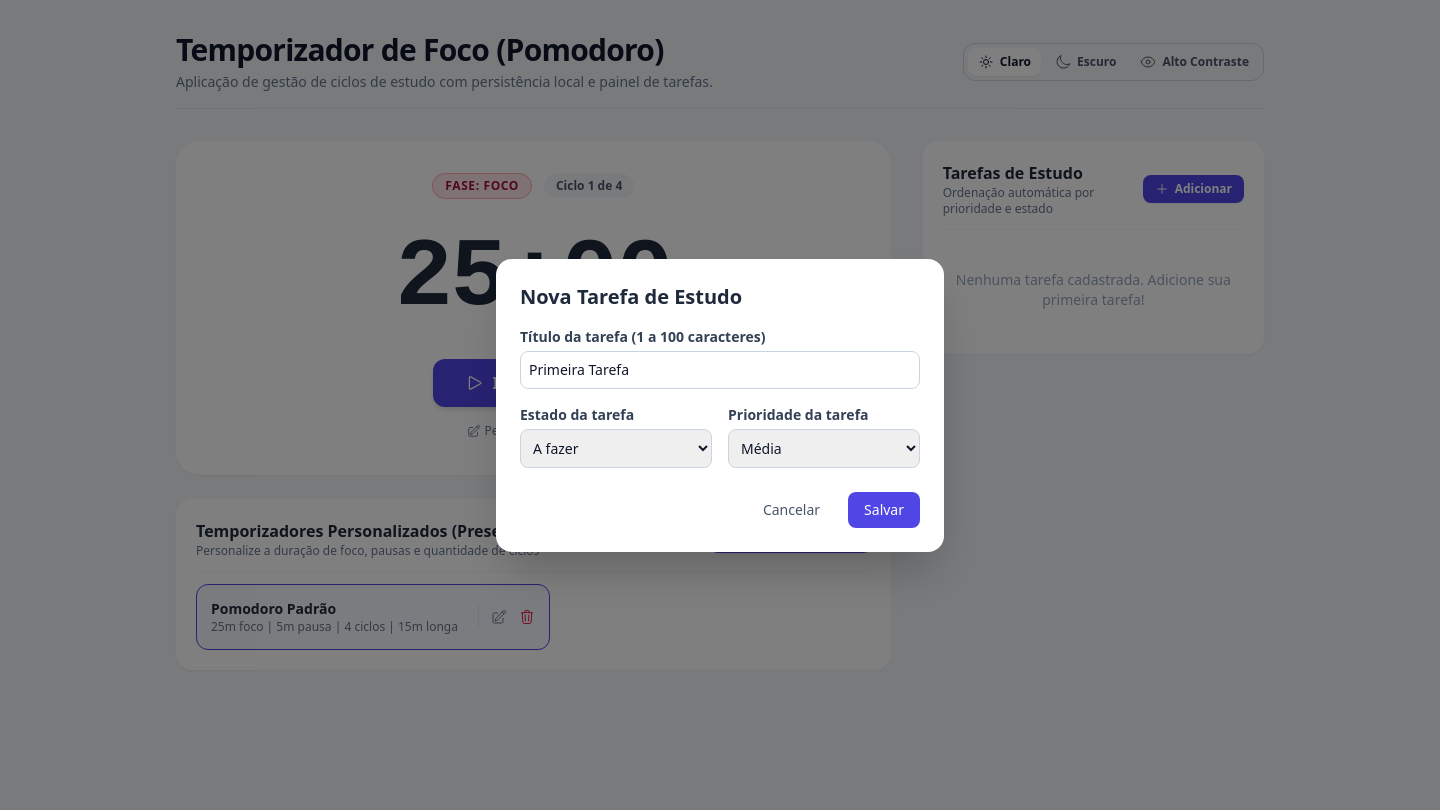
App Integrado (Pomodoro + Presets + Tarefas) › ao editar uma tarefa apos criar outra, deve abrir com os dados da tarefa selecionada e nao da ultima criada
Earlier steps of the test are not shown.
Click the button "Salvar" at (884, 510), box x1=848 y1=492 x2=920 y2=528
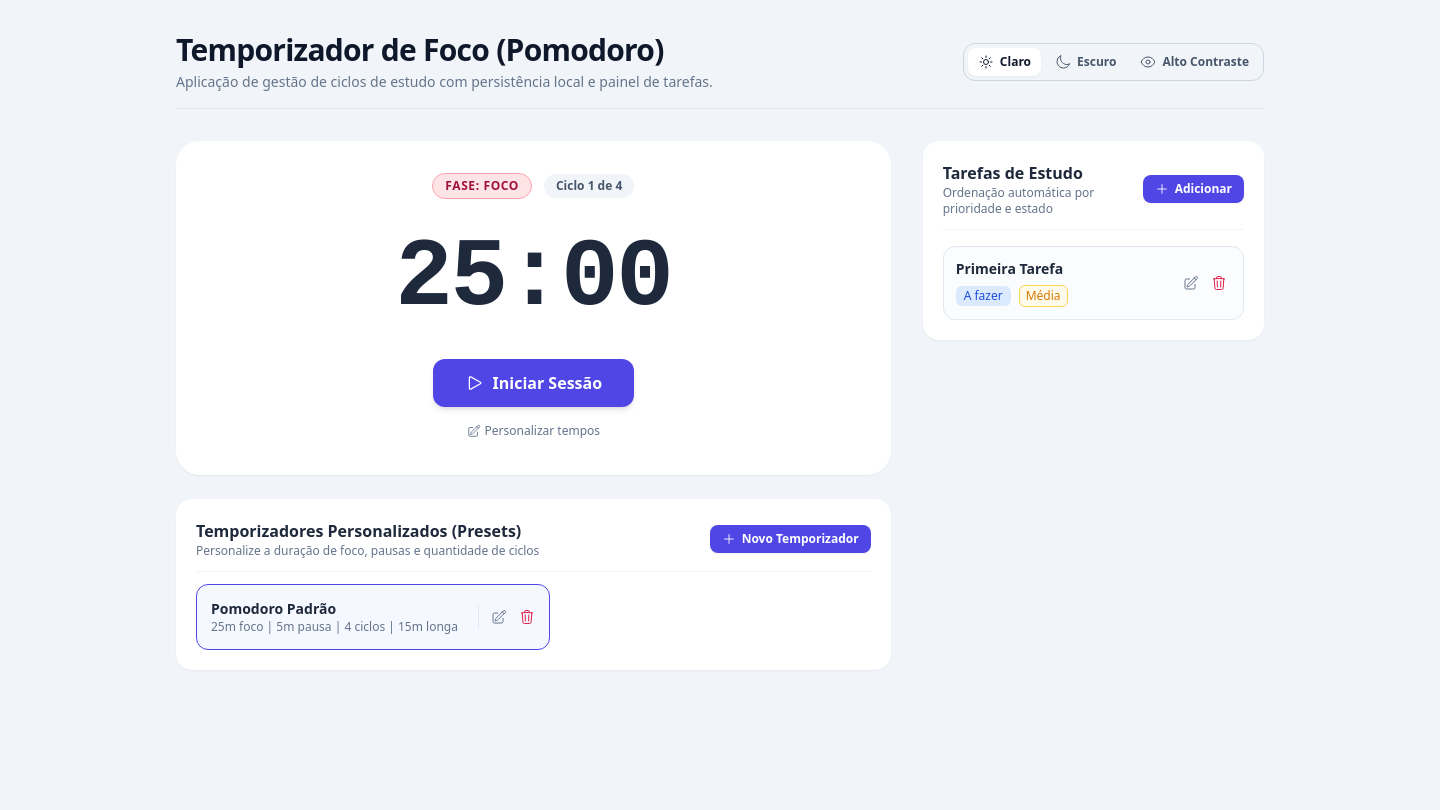
# Criar Tarefa 2
Click the button with aria-label "+ Adicionar" at (1193, 189), box x1=1143 y1=175 x2=1244 y2=203
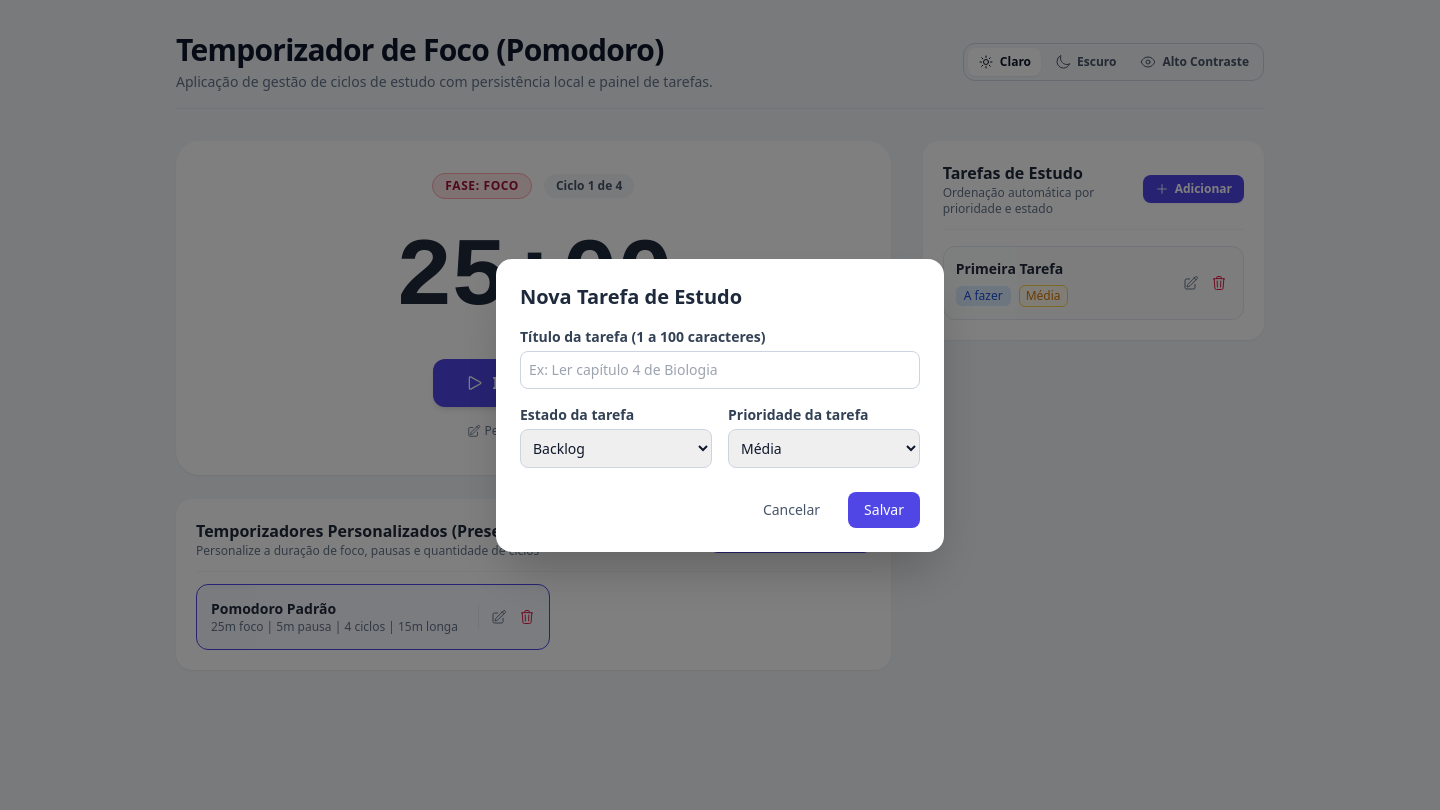
Type "Segunda Tarefa" into the field labelled "Título da tarefa (1 a 100 caracteres)" at (720, 370), box x1=520 y1=350 x2=920 y2=388
Select "Concluída" in the dropdown labelled "Estado da tarefa" at (616, 448), box x1=520 y1=428 x2=712 y2=468
Click the button "Salvar" at (884, 510), box x1=848 y1=492 x2=920 y2=528
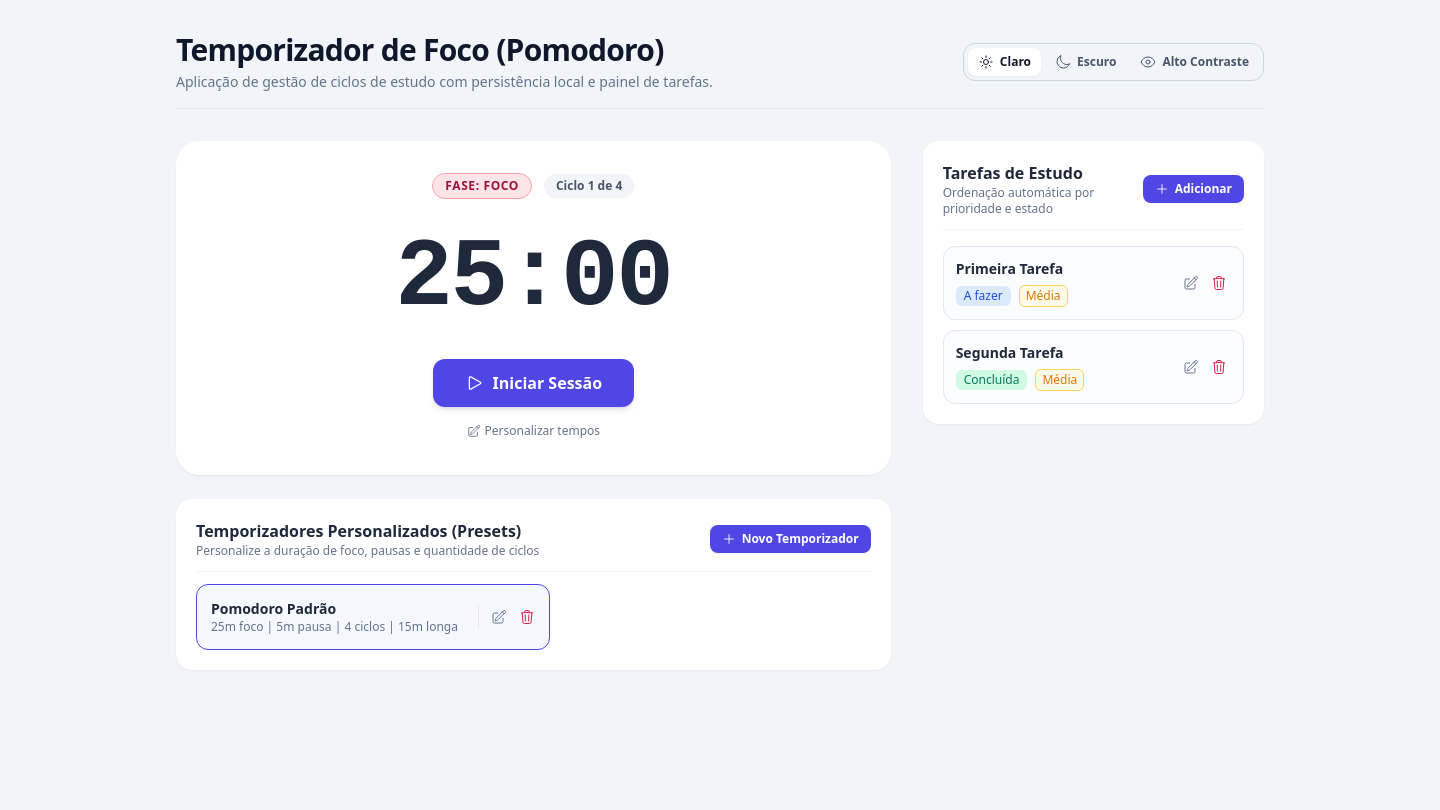
Expected: the text "Primeira Tarefa" is shown, x1=956 y1=259 x2=1068 y2=279
Now the text "Segunda Tarefa" is shown, box x1=956 y1=343 x2=1064 y2=362
# Primeira tarefa (aFazer vem antes de concluida pela RN-10 se tiver mesma prioridade)
Click the button titled "Editar Tarefa" at (1191, 283), box x1=1179 y1=271 x2=1203 y2=295
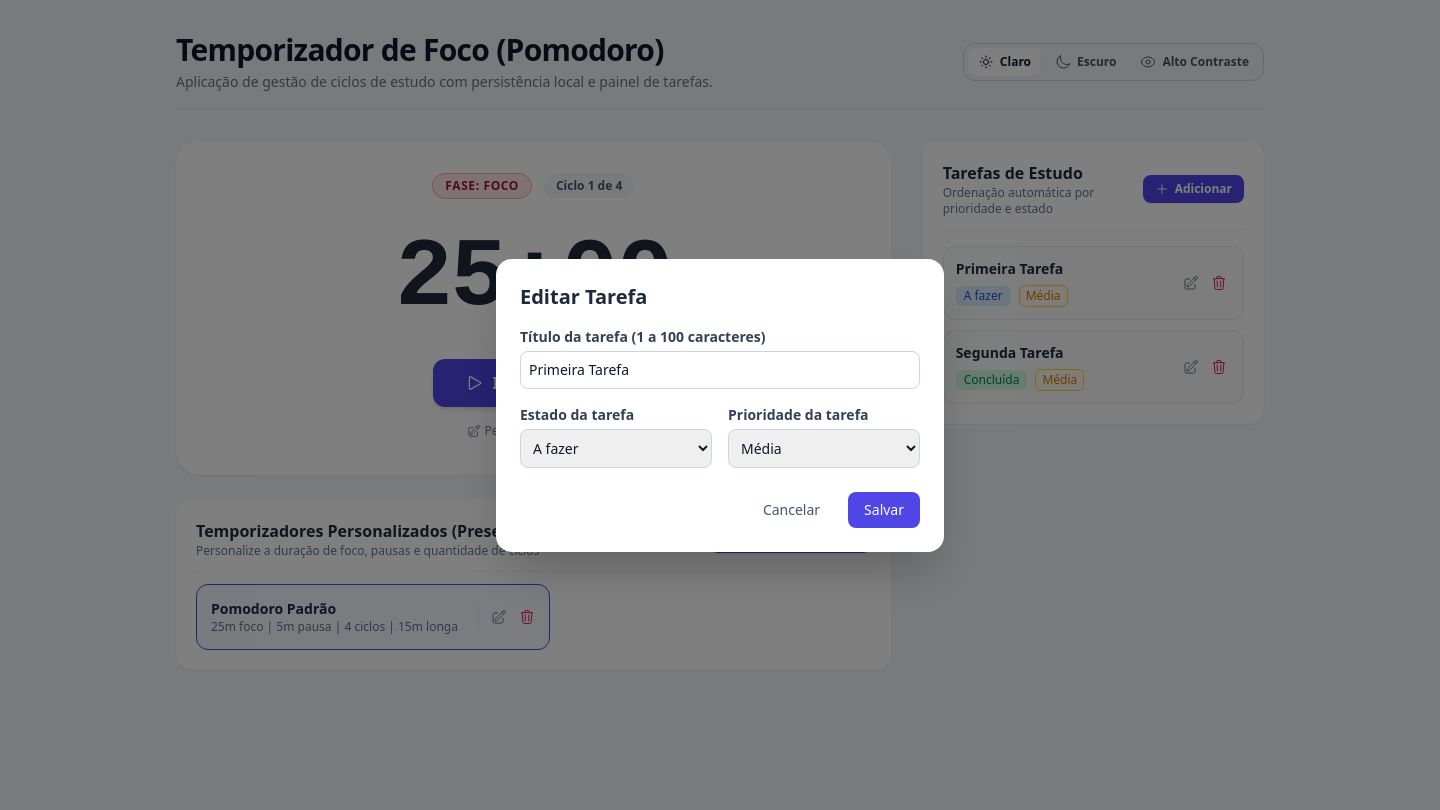
Now the field labelled "Título da tarefa (1 a 100 caracteres)" holds "Primeira Tarefa"
Now the dropdown labelled "Estado da tarefa" shows "A fazer", box x1=520 y1=428 x2=712 y2=468
# Salvar alteração da Primeira Tarefa
Replace the text in the field labelled "Título da tarefa (1 a 100 caracteres)" with "Primeira Tarefa Atualizada" at (720, 370), box x1=520 y1=350 x2=920 y2=388
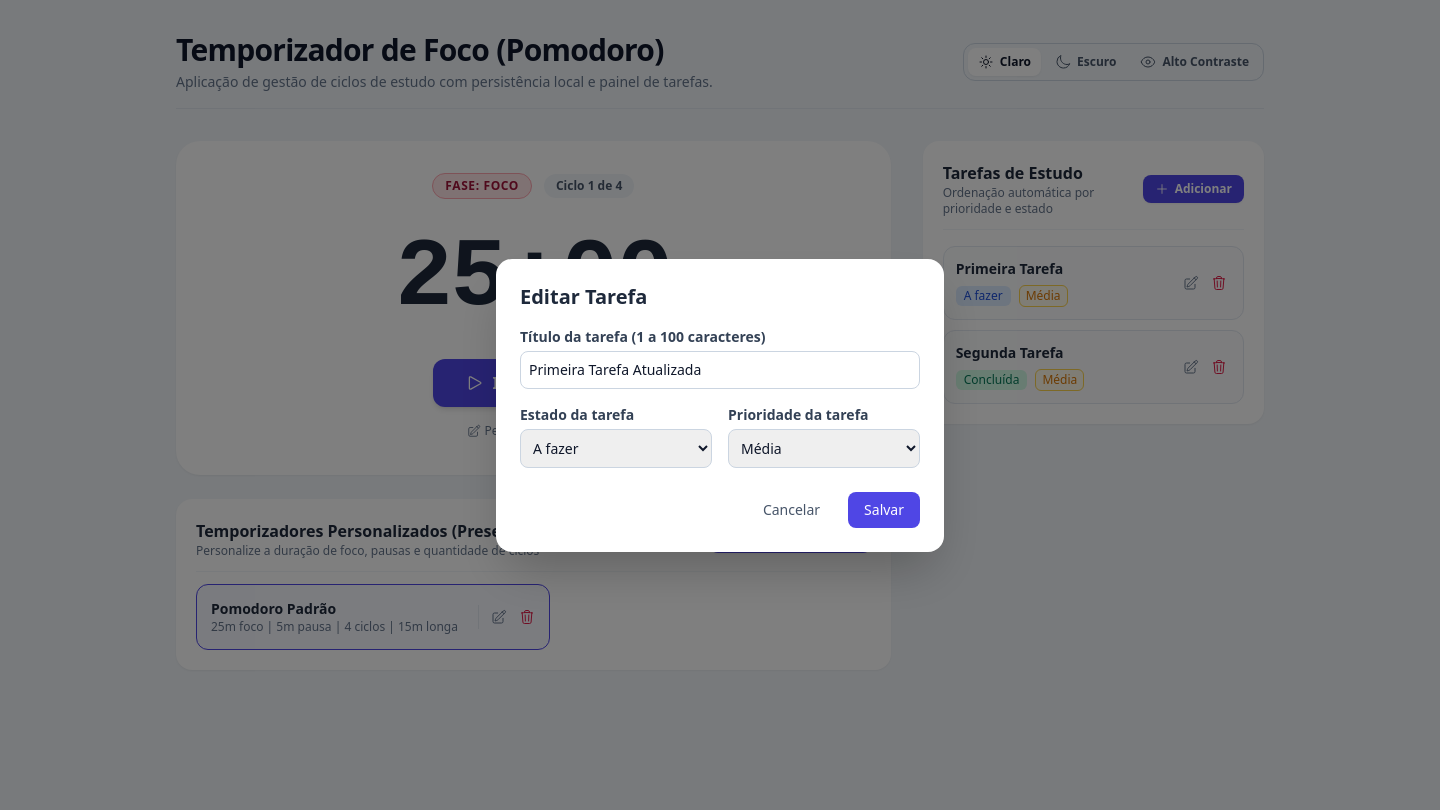
Click the button "Salvar" at (884, 510), box x1=848 y1=492 x2=920 y2=528
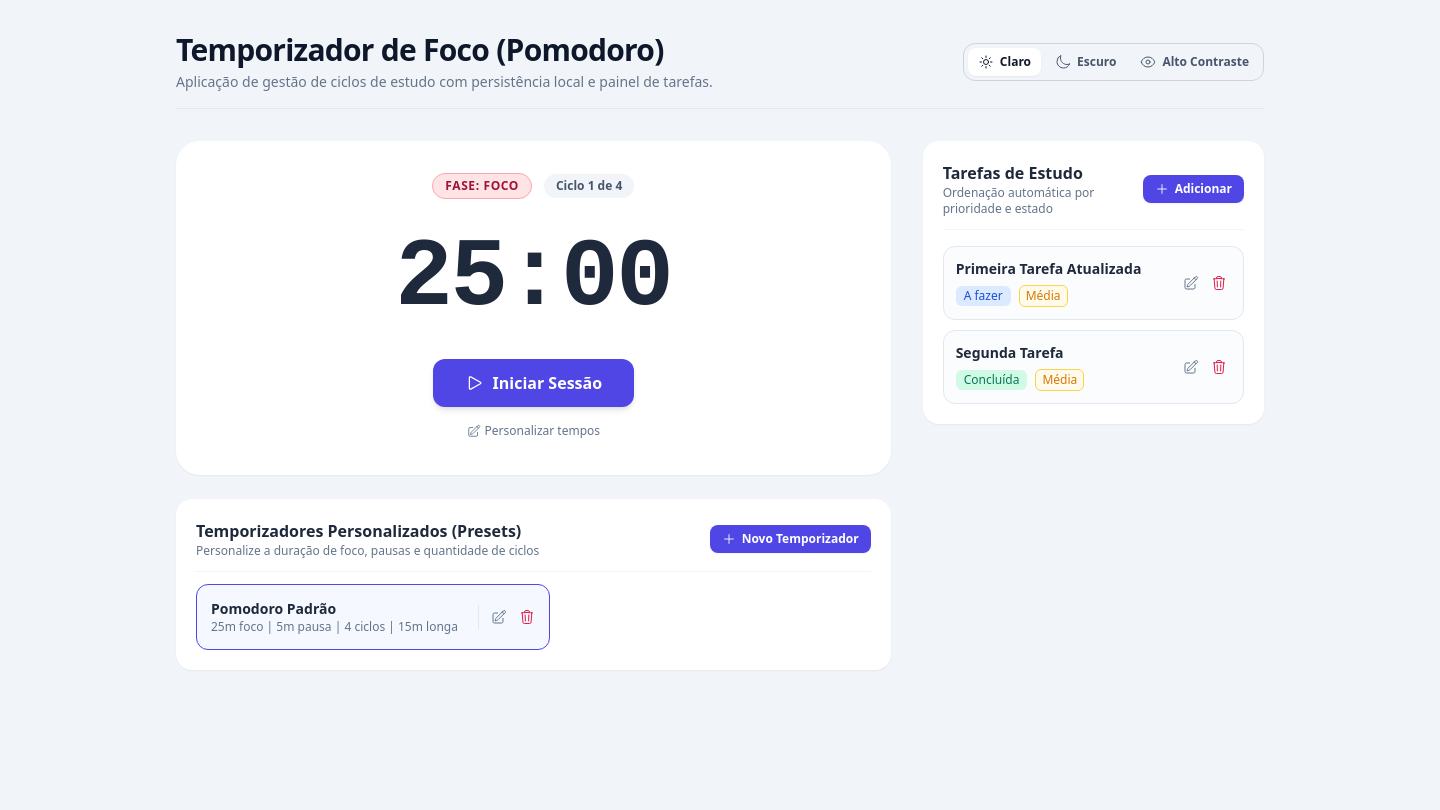
Now the text "Segunda Tarefa" is shown, box x1=956 y1=343 x2=1064 y2=362
Now the text "Primeira Tarefa Atualizada" is shown, box x1=956 y1=259 x2=1141 y2=279
